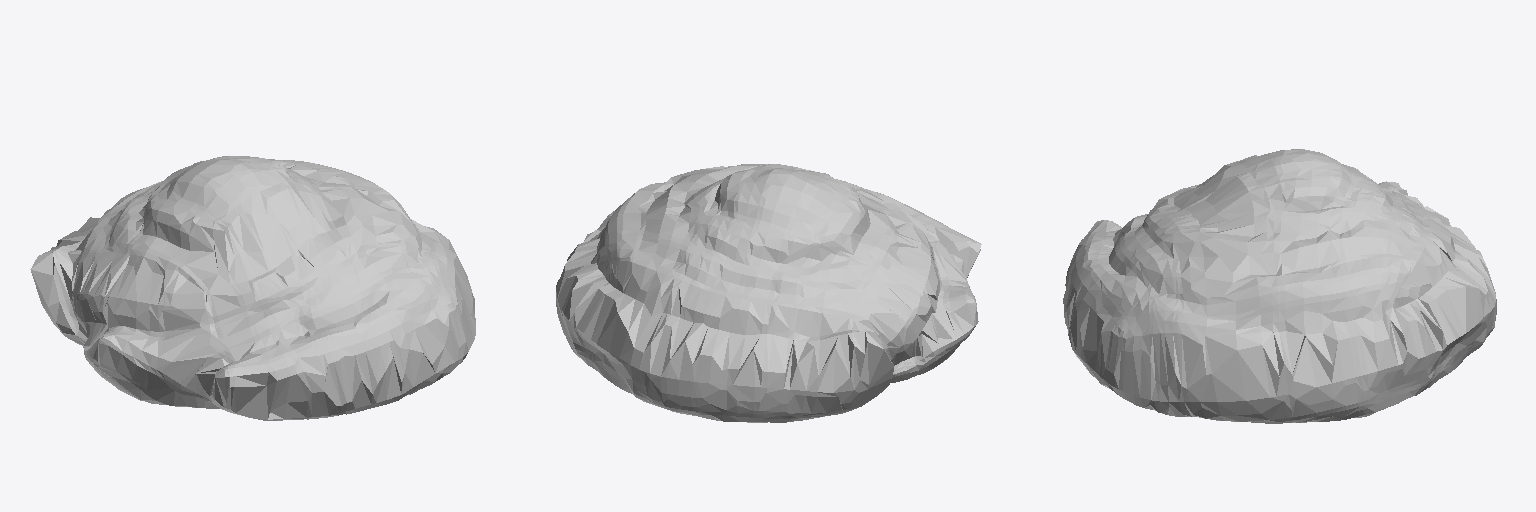
File: cinnamon4.obj
3 renders of one model, left to right at view 1: azimuth 30°, elevation 25°; view 2: azimuth 150°, elevation 25°; view 3: azimuth 270°, elevation 25°, orthographic.
Parts seen in each view (by area): view 1: pasted__pasted__pasted__polySurface4176 croissant5k32:croissant5; view 2: pasted__pasted__pasted__polySurface4176 croissant5k32:croissant5; view 3: pasted__pasted__pasted__polySurface4176 croissant5k32:croissant5.
Part boxes in pixels (bbox=[...]): pasted__pasted__pasted__polySurface4176 croissant5k32:croissant5: bbox=[30, 156, 475, 420]; pasted__pasted__pasted__polySurface4176 croissant5k32:croissant5: bbox=[556, 164, 981, 422]; pasted__pasted__pasted__polySurface4176 croissant5k32:croissant5: bbox=[1063, 149, 1496, 423].
Size of the model in its own units: 0.173 by 0.0806 by 0.1764.